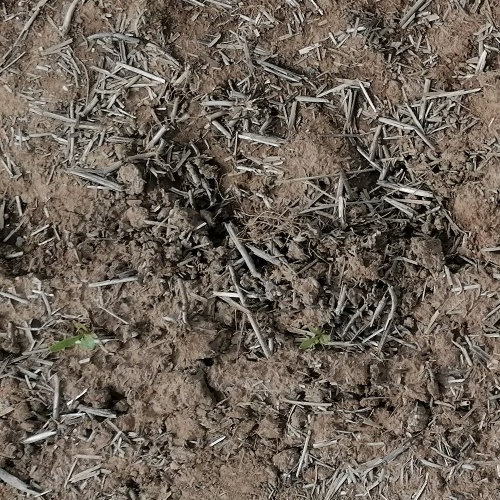beet: (48, 325, 97, 354), (297, 329, 329, 350)
